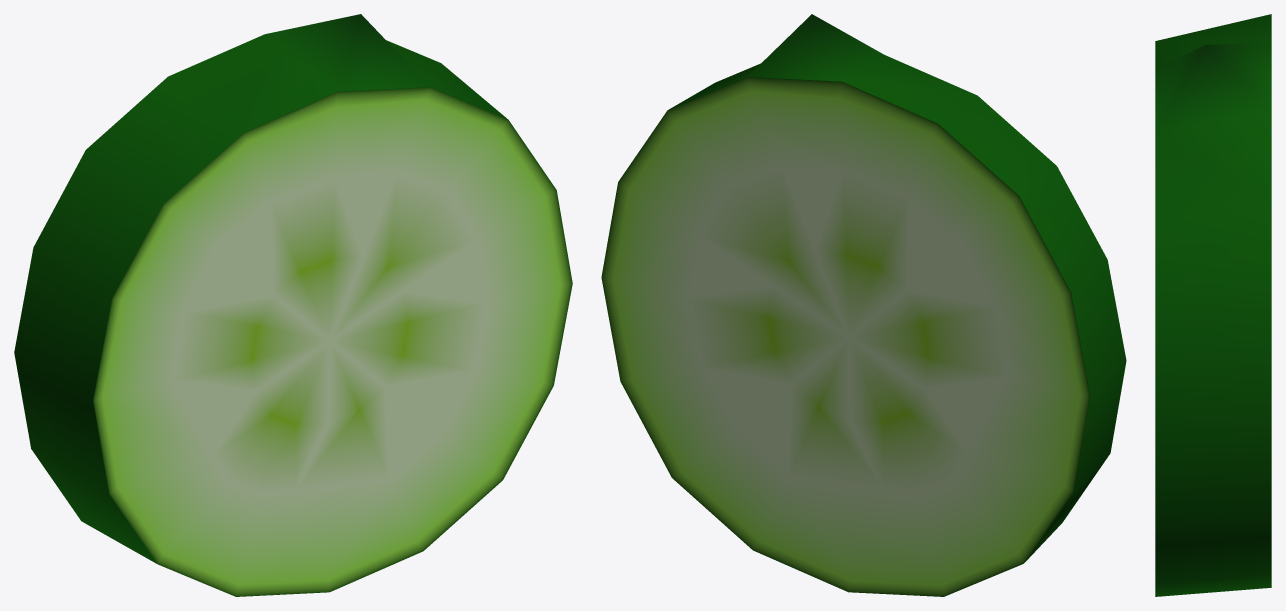
Rendered from Cucumber_Slice_04.fbx.
The picture shows the model from 3 angles, left to right: view 1: azimuth 30°, elevation 25°; view 2: azimuth 150°, elevation 25°; view 3: azimuth 270°, elevation 25°; orthographic projection. The views are drawn at different scales.
Visible parts, largest first — view 1: Cucumber_Slice_04; view 2: Cucumber_Slice_04; view 3: Cucumber_Slice_04.
Part boxes in pixels (left/top/right/bottom): Cucumber_Slice_04: left=14, top=14, right=572, bottom=596; Cucumber_Slice_04: left=601, top=14, right=1126, bottom=596; Cucumber_Slice_04: left=1155, top=14, right=1271, bottom=596.
Bounding box in the file's own units: 4.29 × 4.48 × 0.8573.
